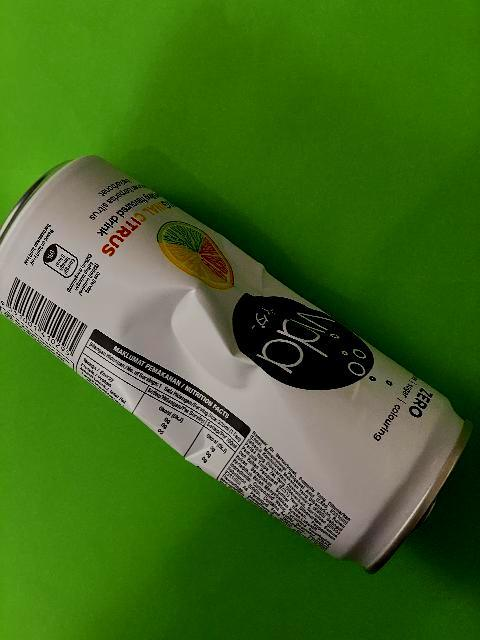drinkcan: (0, 154, 480, 574)
